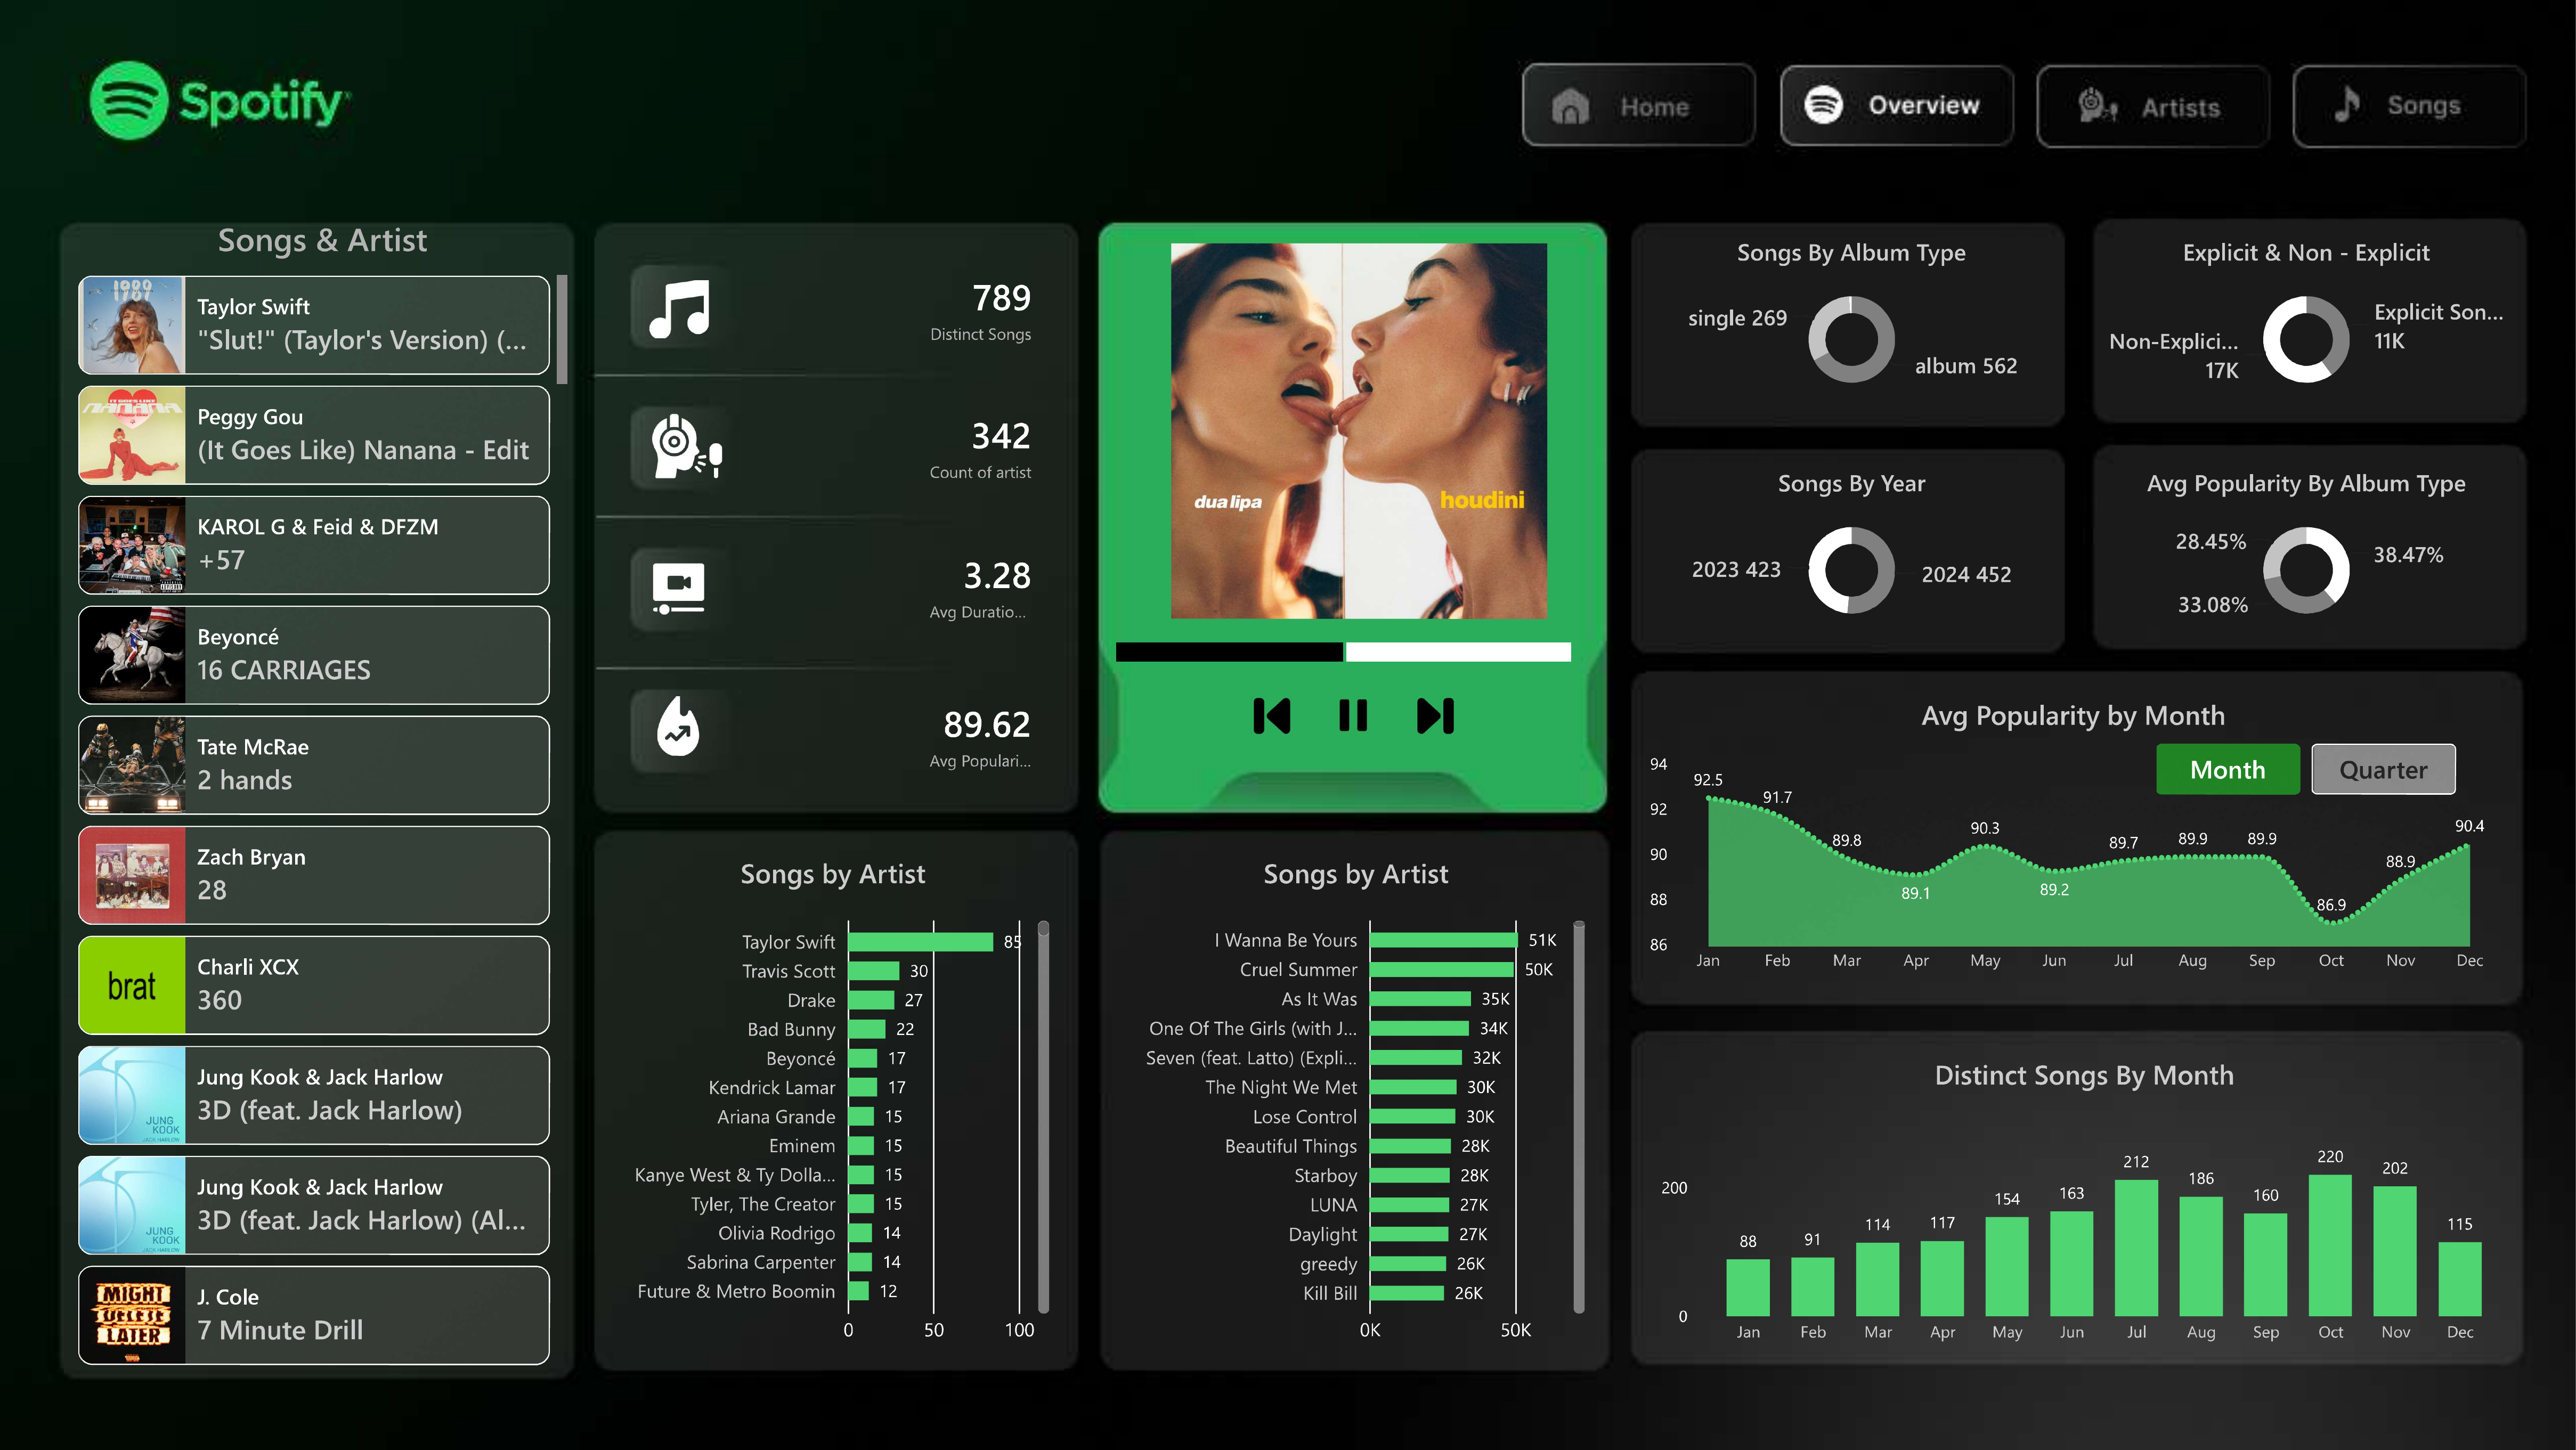

The dashboard page shown, as its layout file describes it:
{"tool":"powerbi","page":{"name":"Overiew","canvas":[1920,1080],"ordinal":1},"visuals":[{"type":"clusteredBarChart","title":"Songs by Artist","fields":{"Category":["Top-50-World.artist"],"Y":["_Measures.Distinct Songs"]},"box":[444.2,622.3,354.2,400.2],"z":0},{"type":"clusteredBarChart","title":"Songs by Artist","fields":{"Category":["Top-50-World.song"],"Y":["Sum(Top-50-World.popularity)"]},"box":[825.2,622.3,371.4,400.2],"z":1000},{"type":"areaChart","title":"Avg Popularity by Month ","fields":{"Category":["Top-50-World.Month"],"Y":["_Measures.Avg Popularity"]},"box":[1213.9,503.6,664.4,241.2],"z":2000},{"type":"advancedSlicerVisual","fields":{"Values":["Slicer_Option.Slicer_Option"]},"box":[1591.1,539.9,256.6,68.9],"z":3000},{"type":"donutChart","title":" Songs By Album Type","fields":{"Category":["Top-50-World.album_type"],"Y":["_Measures.Distinct Songs"]},"box":[1213.9,160.8,333.1,149.3],"z":4000},{"type":"donutChart","title":" Songs By Year","fields":{"Category":["Top-50-World.Year"],"Y":["_Measures.Distinct Songs"]},"box":[1213.9,333.1,333.1,149.3],"z":5000},{"type":"donutChart","title":"Avg Popularity By Album Type","fields":{"Category":["Top-50-World.album_type"],"Y":["_Measures.Avg Position"]},"box":[1552.8,333.1,333.1,149.3],"z":6000},{"type":"donutChart","title":"Explicit & Non - Explicit ","fields":{"Y":["_Measures.Explicit Songs","_Measures.Non-Explicit Songs"]},"box":[1552.8,160.8,333.1,149.3],"z":7000},{"type":"clusteredColumnChart","title":"Distinct Songs By Month","fields":{"Category":["Top-50-World.Month"],"Y":["_Measures.Distinct Songs"]},"box":[1221.5,771.6,664.4,250.8],"z":8000},{"type":"cardVisual","fields":{"Data":["Count(Top-50-World.artist)"]},"box":[660.6,289.1,140,90],"z":9000},{"type":"cardVisual","fields":{"Data":["_Measures.Avg Duration Minutes"]},"box":[660.6,392.5,140,90],"z":10000},{"type":"cardVisual","fields":{"Data":["_Measures.Avg Popularity"]},"box":[660.6,503.6,140,90],"z":11000},{"type":"cardVisual","fields":{"Data":["_Measures.Distinct Songs"]},"box":[660.6,185.7,140,90],"z":12000},{"type":"image","box":[486.8,517.6,50.7,45.2],"z":13000},{"type":"image","box":[461.5,416.2,88.7,45.2],"z":14000},{"type":"image","box":[470.5,305.8,81.4,52.5],"z":15000},{"type":"image","box":[472.3,208.1,67,43.4],"z":16000},{"type":"advancedSlicerVisual","title":"Songs & Artist","fields":{"Values":["Top-50-World.song"]},"box":[57.6,160.5,365.6,859.6],"z":17000},{"type":"cardVisual","fields":{"Data":["Min(Top-50-World.album_cover_url)"]},"box":[799.9,181,425.3,280.5],"z":18000},{"type":"hundredPercentStackedBarChart","fields":{"Y":["_Measures.Avg Popularity","Avg(Top-50-World.popularity)"]},"box":[816.2,432.5,371,101.3],"z":19000},{"type":"image","box":[928.4,517.6,39.8,30.8],"z":20000},{"type":"image","box":[1049.6,517.6,39.8,30.8],"z":21000},{"type":"image","box":[982.6,513.9,52.5,38],"z":22000},{"type":"shape","box":[816.2,161.1,380,447],"z":23000},{"type":"actionButton","box":[1707,45.5,172.3,63.4],"z":24000},{"type":"actionButton","box":[1514.9,45.5,172.3,63.4],"z":25000},{"type":"actionButton","box":[1322.8,45.5,172.3,63.4],"z":26000},{"type":"actionButton","box":[1132.7,45.5,172.3,63.4],"z":27000}]}

Visuals, with their boxes in screenshot pixels (x1, y1, x2, y2), scaled from the page's 1920x1080 canvas onto the 2576x1450 screenshot:
"Songs by Artist" clusteredBarChart: box(596, 835, 1071, 1373)
"Songs by Artist" clusteredBarChart: box(1107, 835, 1605, 1373)
"Avg Popularity by Month " areaChart: box(1629, 676, 2520, 1000)
advancedSlicerVisual - Slicer_Option.Slicer_Option: box(2135, 725, 2479, 817)
" Songs By Album Type" donutChart: box(1629, 216, 2076, 417)
" Songs By Year" donutChart: box(1629, 447, 2076, 648)
"Avg Popularity By Album Type" donutChart: box(2083, 447, 2530, 648)
"Explicit & Non - Explicit " donutChart: box(2083, 216, 2530, 417)
"Distinct Songs By Month" clusteredColumnChart: box(1639, 1036, 2530, 1373)
cardVisual - Count(Top-50-World.artist): box(887, 388, 1074, 509)
cardVisual - _Measures.Avg Duration Minutes: box(887, 527, 1074, 648)
cardVisual - _Measures.Avg Popularity: box(887, 676, 1074, 797)
cardVisual - _Measures.Distinct Songs: box(887, 249, 1074, 370)
image: box(653, 695, 721, 755)
image: box(619, 559, 738, 620)
image: box(631, 411, 741, 481)
image: box(633, 279, 724, 338)
"Songs & Artist" advancedSlicerVisual: box(77, 216, 568, 1370)
cardVisual - Min(Top-50-World.album_cover_url): box(1073, 243, 1644, 620)
hundredPercentStackedBarChart - _Measures.Avg Popularity x Avg(Top-50-World.popularity): box(1095, 581, 1593, 716)
image: box(1246, 695, 1299, 736)
image: box(1408, 695, 1461, 736)
image: box(1318, 690, 1389, 741)
shape: box(1095, 216, 1605, 817)
actionButton: box(2290, 61, 2522, 146)
actionButton: box(2033, 61, 2264, 146)
actionButton: box(1775, 61, 2006, 146)
actionButton: box(1519, 61, 1751, 146)
